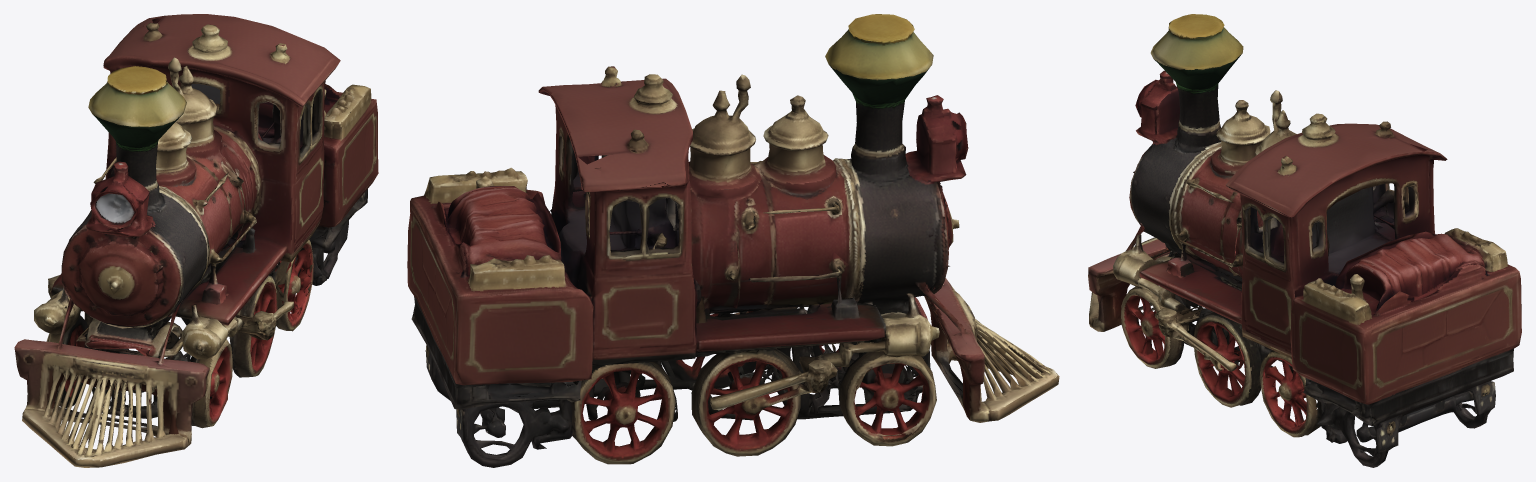
File: train_locomotive.glb
3 renders of one model, left to right at view 1: azimuth 30°, elevation 25°; view 2: azimuth 150°, elevation 25°; view 3: azimuth 270°, elevation 25°, orthographic. The views are drawn at different scales.
Bounding box in the file's own units: 0.8617 × 0.6358 × 0.7823.
1 material, 1 textured.
